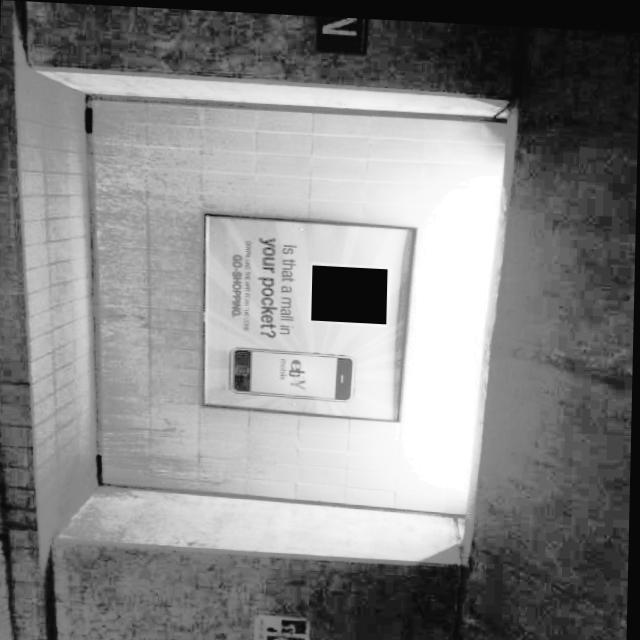qr_code: (312, 262, 388, 320)
